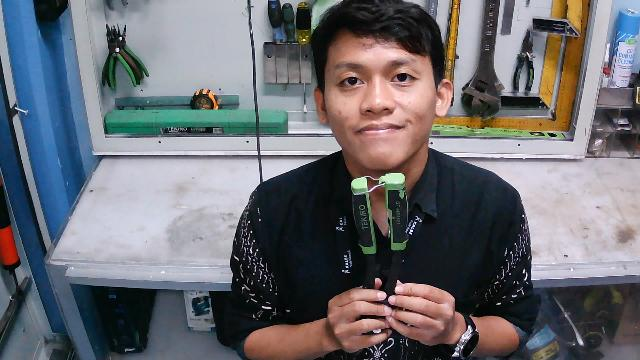tang_rivet: (348, 171, 412, 334)
